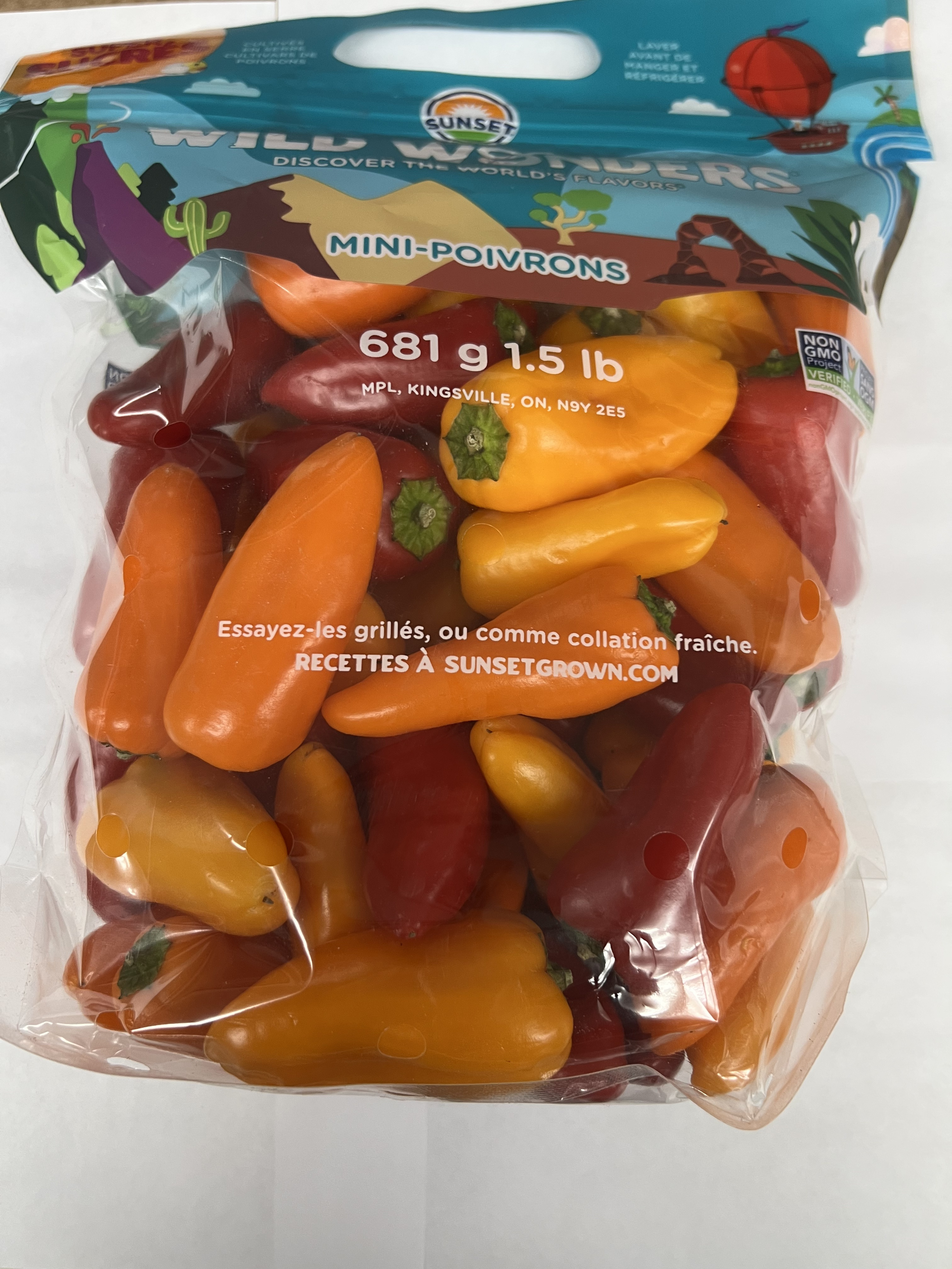produce: (84, 286, 858, 1114)
